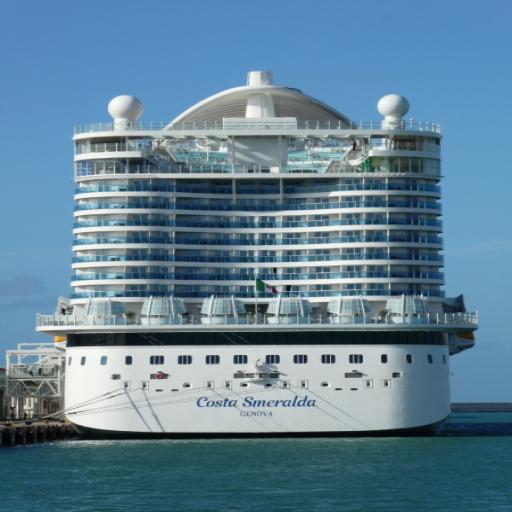cruises: (42, 67, 485, 438)
